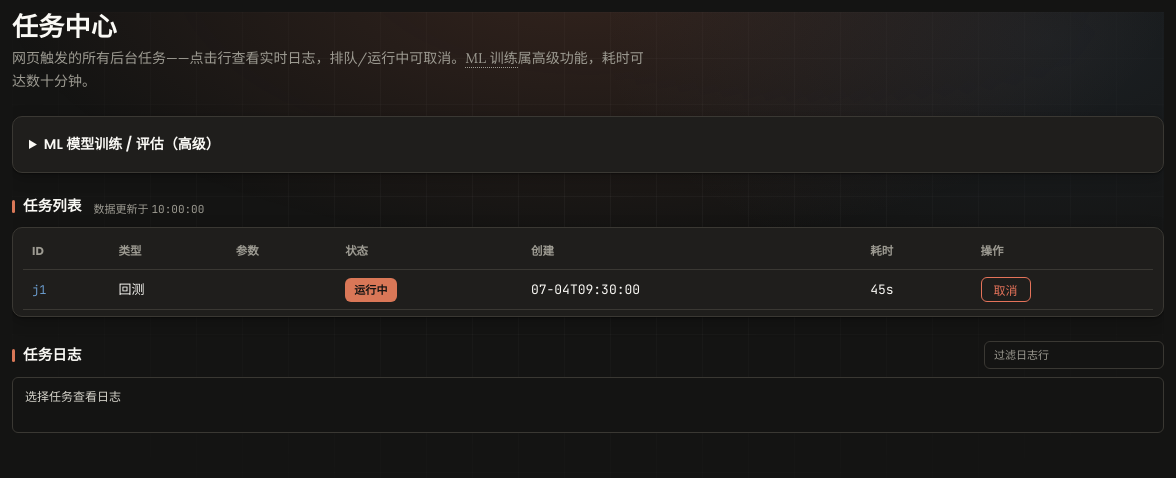
Test: Jobs 日志过滤框 › 输入过滤词仅显命中行(大小写不敏感), 并显 N/M 行计数
Click the row with test id "job-row".
click(588, 290)  # box [23,270,1153,310]
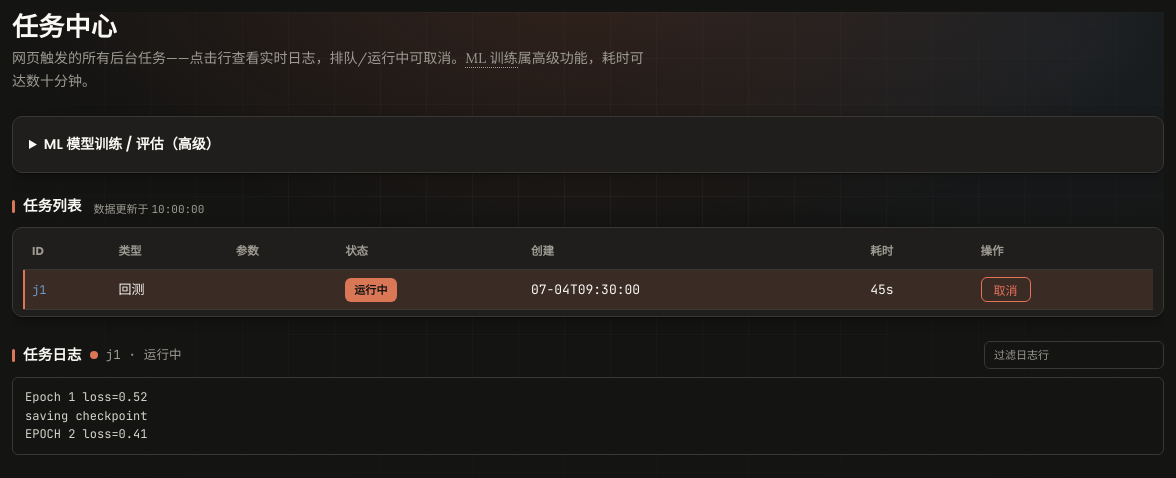
Type "epoch" into the search field with test id "job-log-filter".
click(1074, 355); type("epoch")  # box [984,341,1164,369]
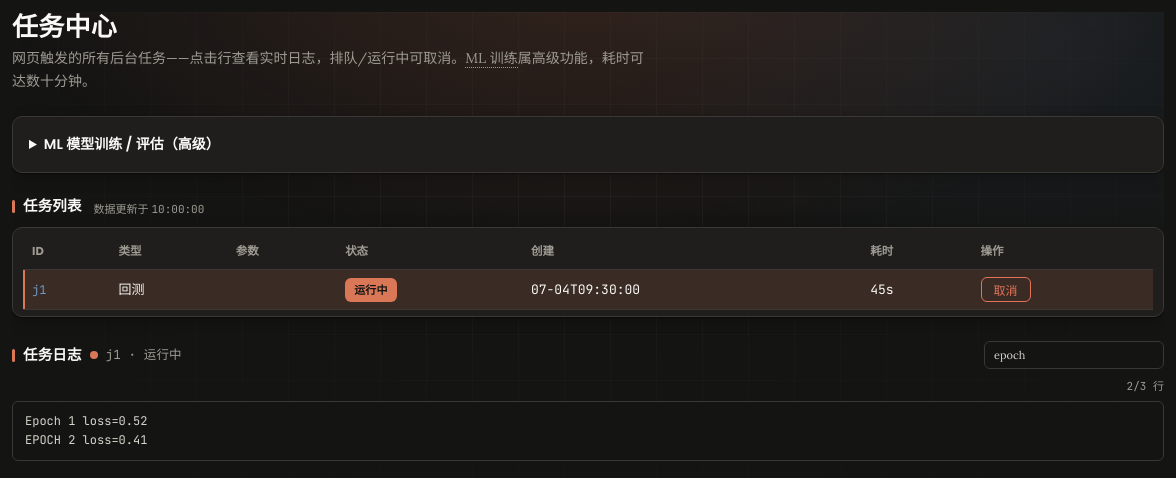
Expected: the text with test id "job-log-filter-count" reads "2/3 行", [1127,379,1164,393]
